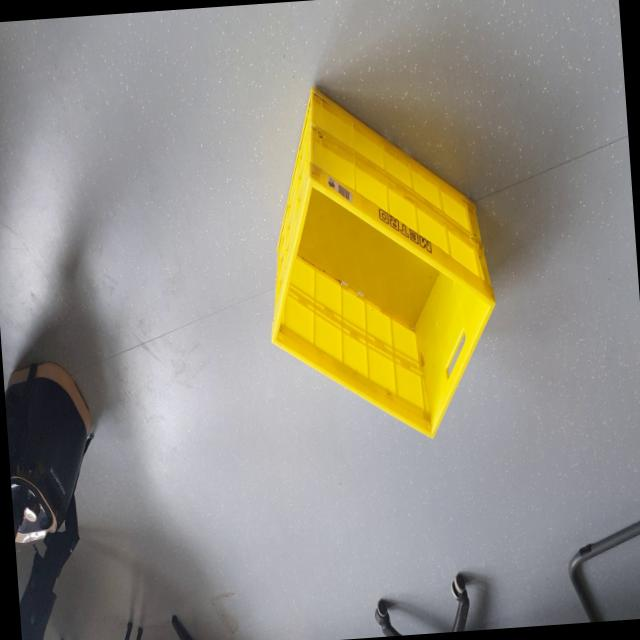box: (250, 55, 510, 466)
